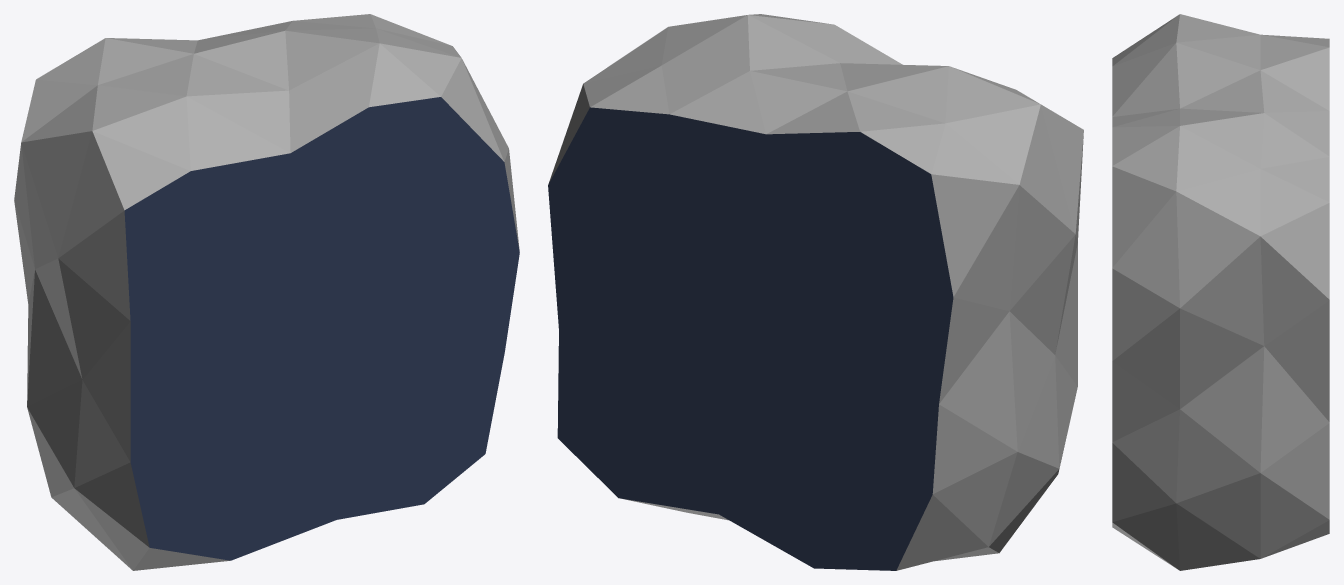
Rendered from Ceiling01.fbx.
3 views of the same model, side by side, from view 1: azimuth 30°, elevation 25°; view 2: azimuth 150°, elevation 25°; view 3: azimuth 270°, elevation 25° (orthographic). The views are drawn at different scales.
Parts seen in each view (by area): view 1: Ceiling01_GEO; view 2: Ceiling01_GEO; view 3: Ceiling01_GEO.
Boxes of the visible parts, x1,y1,x2,y2 form: Ceiling01_GEO: [14, 14, 519, 570]; Ceiling01_GEO: [548, 14, 1083, 570]; Ceiling01_GEO: [1112, 14, 1329, 570].
Bounding box in the file's own units: 1014 × 1005 × 464.
